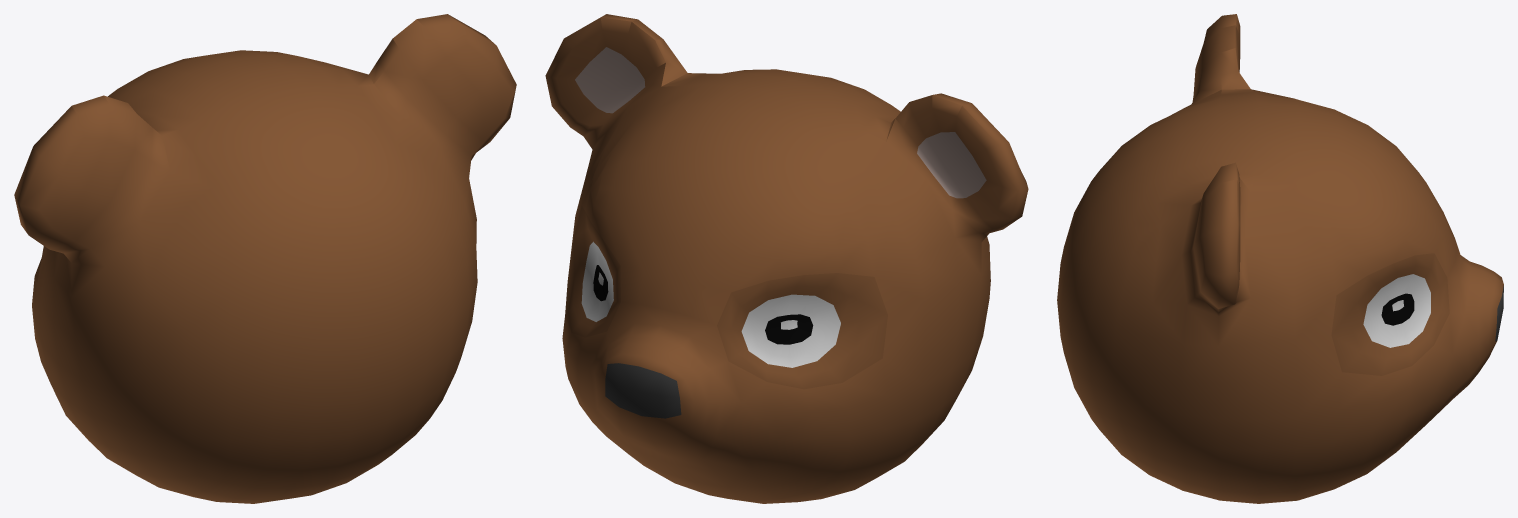
The picture shows the model from 3 angles, left to right: view 1: azimuth 30°, elevation 25°; view 2: azimuth 150°, elevation 25°; view 3: azimuth 270°, elevation 25°; orthographic projection. The views are drawn at different scales.
Parts seen in each view (by area): view 1: BearHead; view 2: BearHead; view 3: BearHead.
Part boxes in pixels (x1,y1,x2,y2): BearHead: (14, 14, 516, 503); BearHead: (545, 14, 1028, 503); BearHead: (1057, 14, 1503, 503).
Size of the model in its own units: 124 by 103 by 107.
